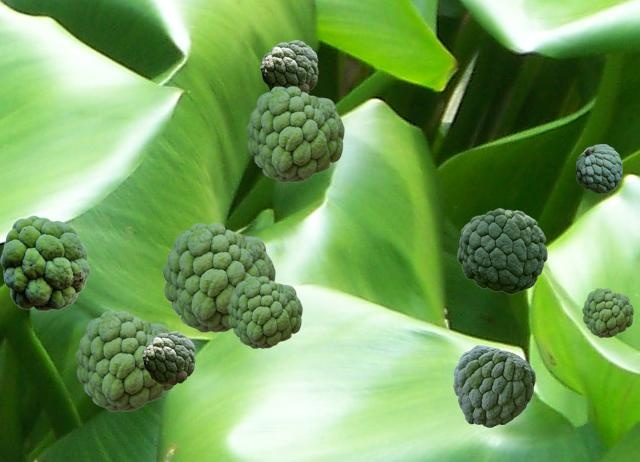atis: (162, 223, 274, 331), (75, 311, 174, 410), (246, 86, 343, 181), (0, 215, 89, 310), (457, 208, 546, 293), (453, 345, 534, 426), (227, 276, 301, 347), (260, 40, 317, 92), (142, 331, 194, 384), (582, 288, 632, 336), (576, 144, 621, 192)
